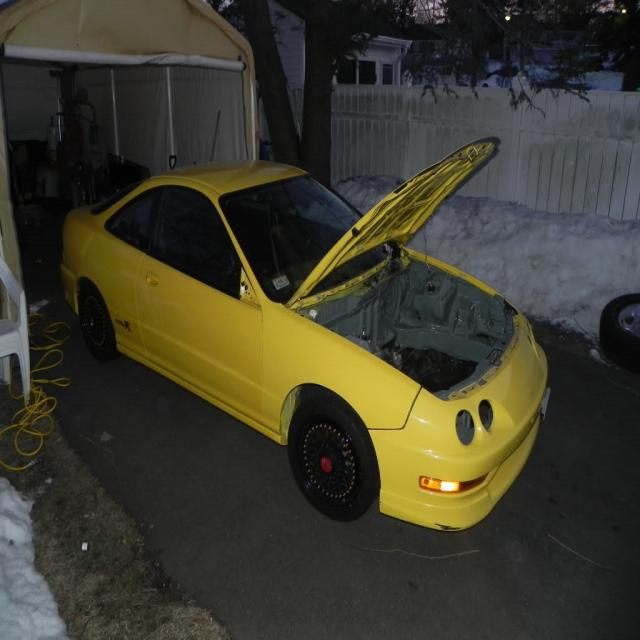car: (52, 126, 574, 561)
